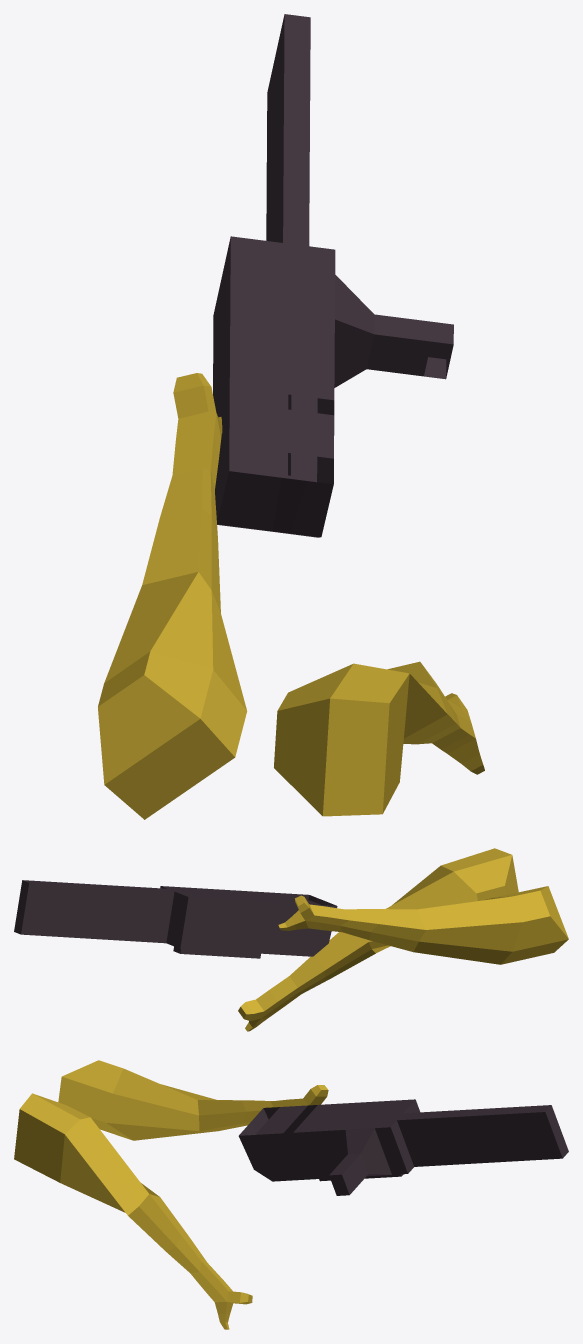
Rendered from arme_000107.obj.
3 renders of one model, top to bottom at view 1: azimuth 30°, elevation 25°; view 2: azimuth 150°, elevation 25°; view 3: azimuth 270°, elevation 25°, orthographic. The views are drawn at different scales.
Visible parts, largest first — view 1: Cube.048_Cube.024, Cube.046_Cube.010; view 2: Cube.048_Cube.024, Cube.046_Cube.010; view 3: Cube.048_Cube.024, Cube.046_Cube.010.
Boxes of the visible parts, <box> form: Cube.048_Cube.024: <box>98,373,484,819</box>; Cube.046_Cube.010: <box>213,14,453,537</box>; Cube.048_Cube.024: <box>238,848,568,1031</box>; Cube.046_Cube.010: <box>14,880,337,958</box>; Cube.048_Cube.024: <box>14,1060,328,1329</box>; Cube.046_Cube.010: <box>238,1099,568,1195</box>.
Size of the model in its own units: 1560 by 1143 by 2247.
